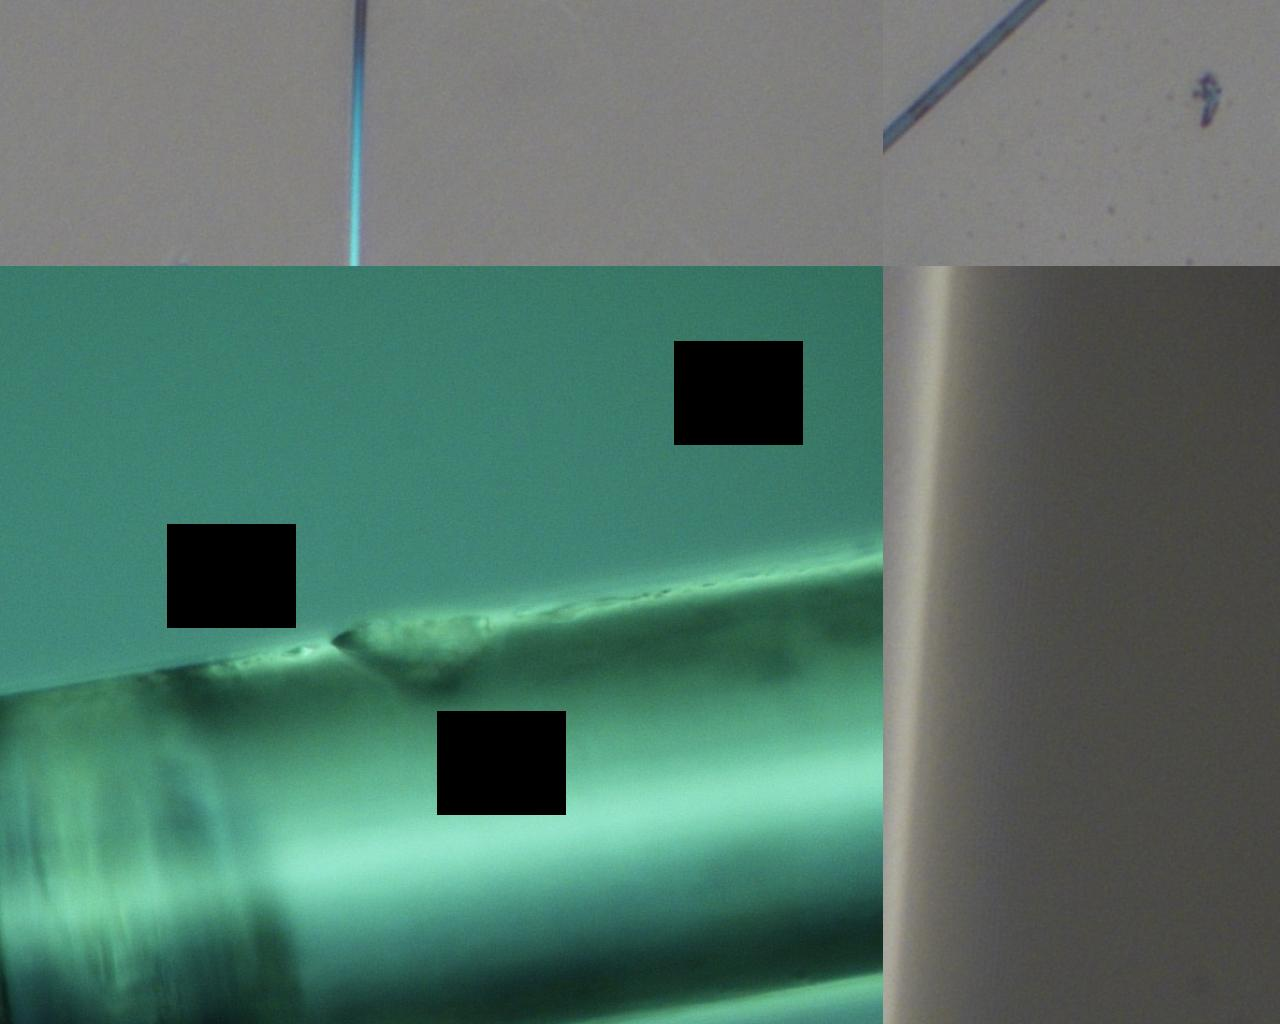fiber: (0, 548, 883, 1024), (346, 0, 370, 266)
